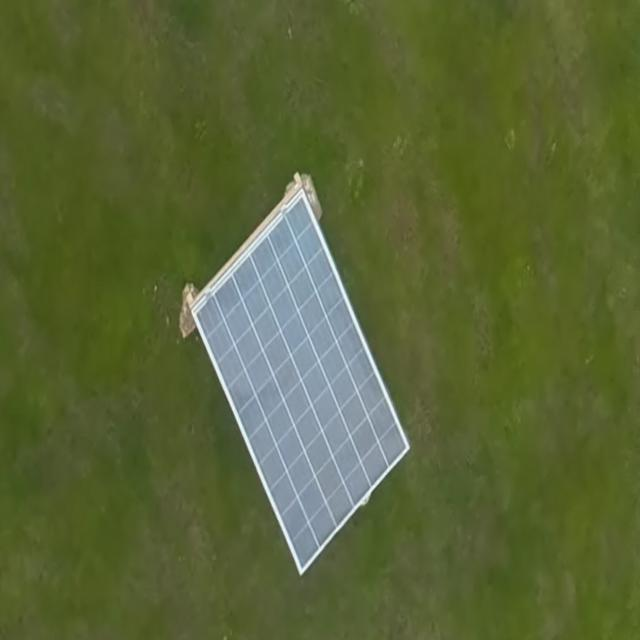no faulty: (192, 182, 408, 570)
